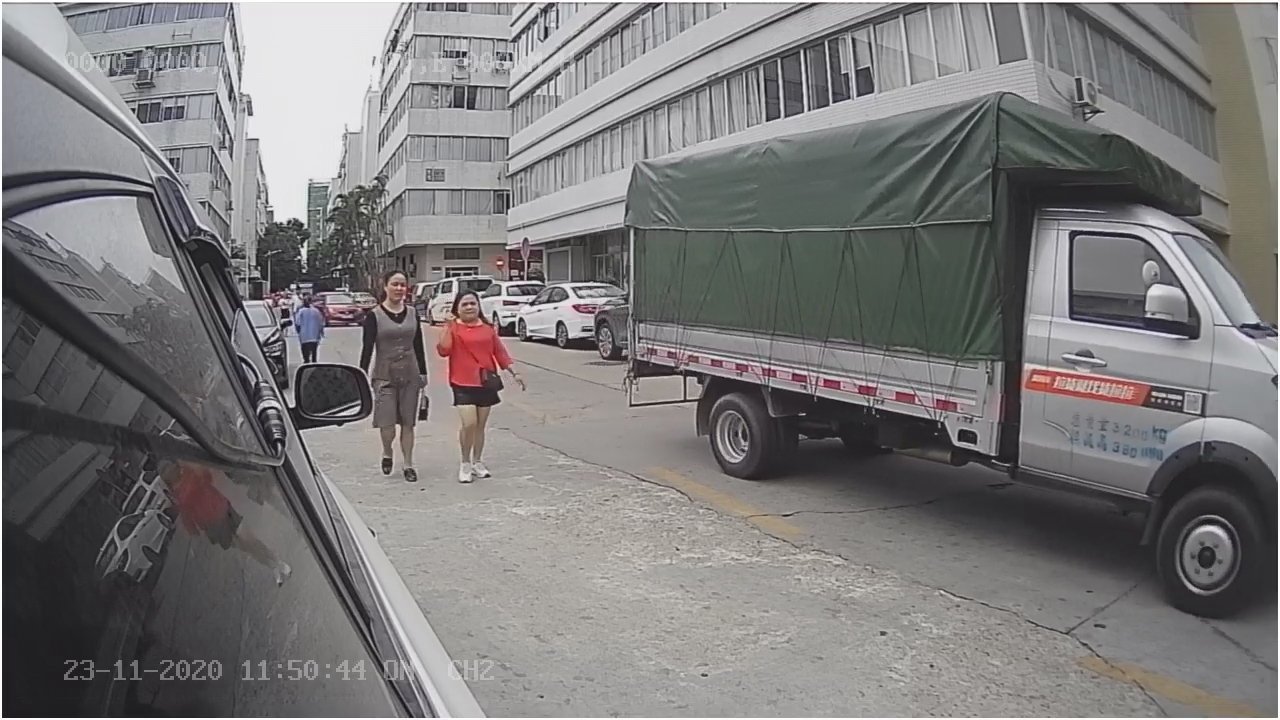person: (437, 280, 523, 481), (358, 270, 430, 481)
